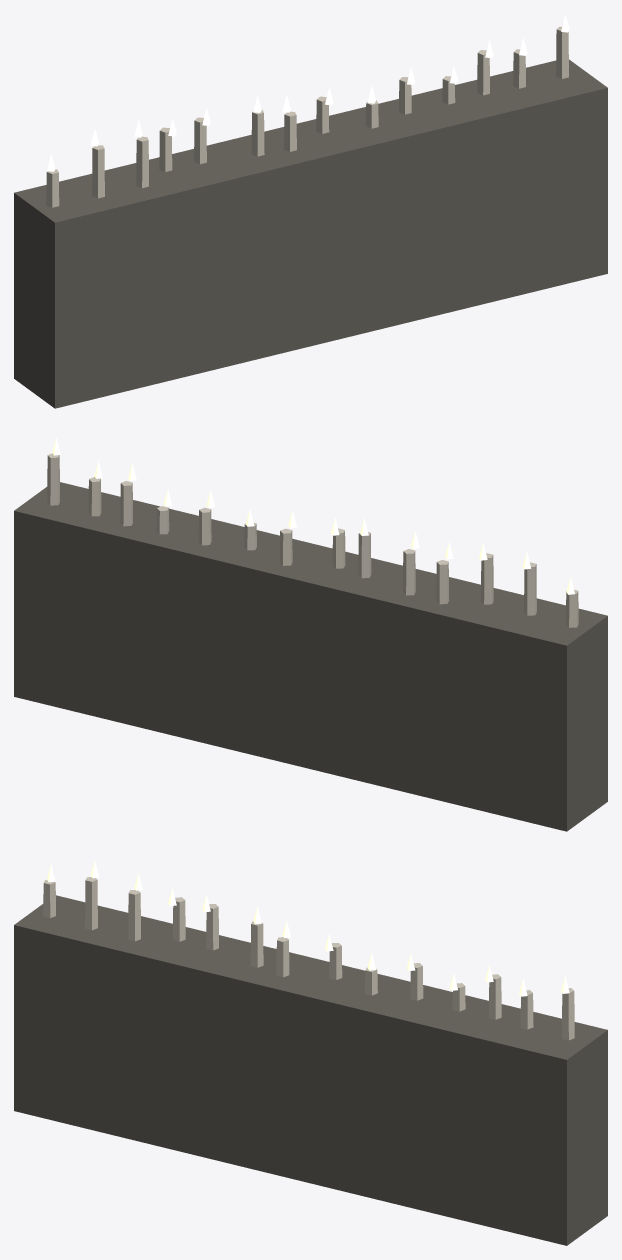
File: taper_row.glb
3 renders of one model, top to bottom at view 1: azimuth 30°, elevation 25°; view 2: azimuth 150°, elevation 25°; view 3: azimuth 330°, elevation 25°, orthographic.
Visible parts, largest first — view 1: bone_d55, bone_d8, kindle_l15_glow; view 2: bone_d55, bone_d8, kindle_l15_glow; view 3: bone_d55, bone_d8, kindle_l15_glow.
Part boxes in pixels (x1=…): bone_d55: x1=14, y1=59, x2=607, y2=408; bone_d8: x1=46, y1=26, x2=568, y2=207; kindle_l15_glow: x1=47, y1=14, x2=569, y2=171; bone_d55: x1=14, y1=482, x2=607, y2=831; bone_d8: x1=47, y1=453, x2=578, y2=627; kindle_l15_glow: x1=52, y1=437, x2=574, y2=594; bone_d55: x1=14, y1=895, x2=607, y2=1245; bone_d8: x1=43, y1=877, x2=574, y2=1040; kindle_l15_glow: x1=47, y1=861, x2=569, y2=996.
Bounding box in the file's own units: 2.8 × 1.21 × 0.36.
